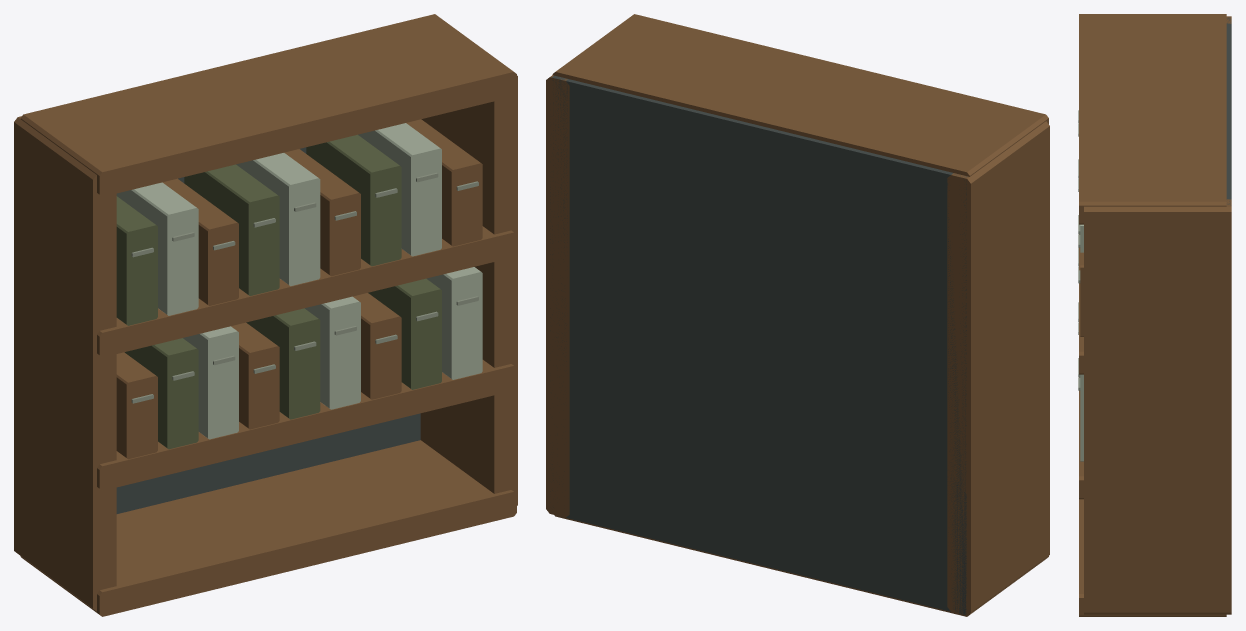
Rendered from Bookshelf.gltf.
The picture shows the model from 3 angles, left to right: view 1: azimuth 30°, elevation 25°; view 2: azimuth 150°, elevation 25°; view 3: azimuth 270°, elevation 25°; orthographic projection. The views are drawn at different scales.
Parts seen in each view (by area): view 1: Bookshelf; view 2: Bookshelf; view 3: Bookshelf.
Boxes of the visible parts, x1,y1,x2,y2 form: Bookshelf: (14, 14, 517, 616); Bookshelf: (546, 14, 1049, 616); Bookshelf: (1078, 14, 1231, 616).
Size of the model in its own units: 0.9 by 0.9 by 0.3015.
